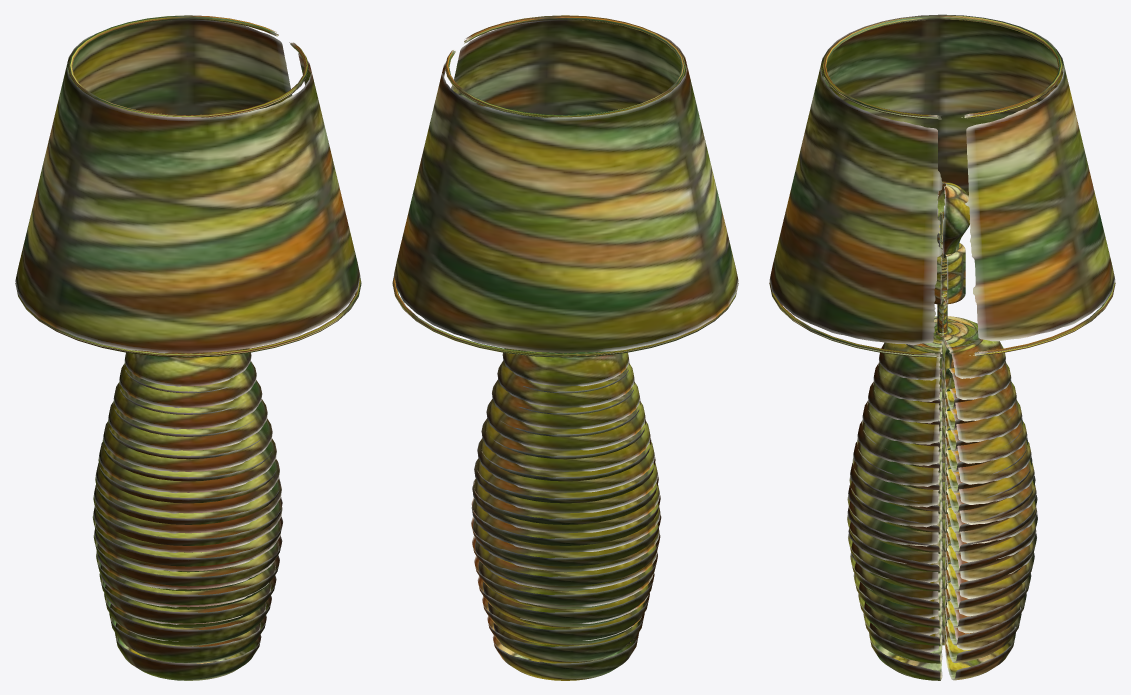
Rendered from Lampara_texturizada.obj.
3 renders of one model, left to right at view 1: azimuth 30°, elevation 25°; view 2: azimuth 150°, elevation 25°; view 3: azimuth 270°, elevation 25°, orthographic.
Parts seen in each view (by area): view 1: _apka, Polyester, Ust_Tel, Alt_Tel; view 2: _apka, Polyester, Ust_Tel, Alt_Tel; view 3: _apka, Polyester, Ust_Tel, glass, Alt_Tel, Pul, Lale.
Boxes of the visible parts, x1,y1,x2,y2 form: _apka: [15, 19, 360, 353]; Polyester: [92, 348, 282, 680]; Ust_Tel: [68, 15, 308, 117]; Alt_Tel: [15, 276, 361, 357]; _apka: [394, 19, 738, 352]; Polyester: [471, 348, 661, 680]; Ust_Tel: [445, 15, 685, 117]; Alt_Tel: [392, 275, 738, 357]; _apka: [769, 14, 1115, 345]; Polyester: [847, 322, 1037, 680]; Ust_Tel: [822, 15, 1062, 119]; glass: [937, 181, 969, 257]; Alt_Tel: [769, 281, 1115, 357]; Pul: [906, 316, 982, 353]; Lale: [934, 241, 965, 304].
Size of the model in its own units: 3.3 by 6.22 by 3.3.
